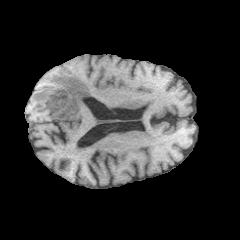glioma: (31, 74, 92, 120)
